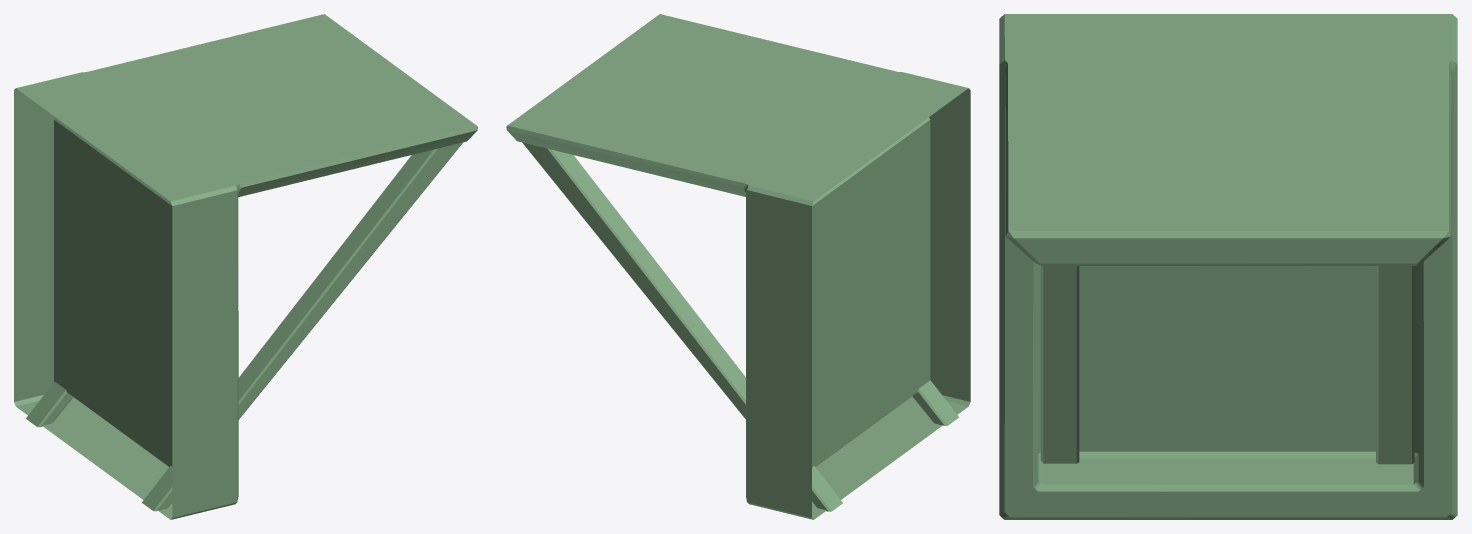
Rendered from P_Ventana_Var2.fbx.
3 renders of one model, left to right at view 1: azimuth 30°, elevation 25°; view 2: azimuth 150°, elevation 25°; view 3: azimuth 270°, elevation 25°, orthographic. The views are drawn at different scales.
Parts seen in each view (by area): view 1: pCube2; view 2: pCube2; view 3: pCube2.
Boxes of the visible parts, x1,y1,x2,y2 form: pCube2: (14, 14, 477, 519); pCube2: (506, 14, 970, 519); pCube2: (999, 14, 1457, 519).
Size of the model in its own units: 103 by 100 by 90.34.
